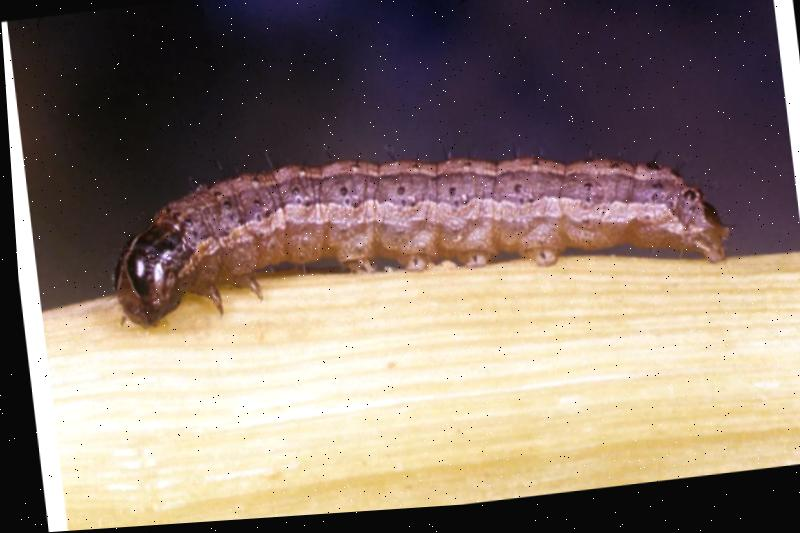fall-armyworm: (109, 164, 728, 332)
